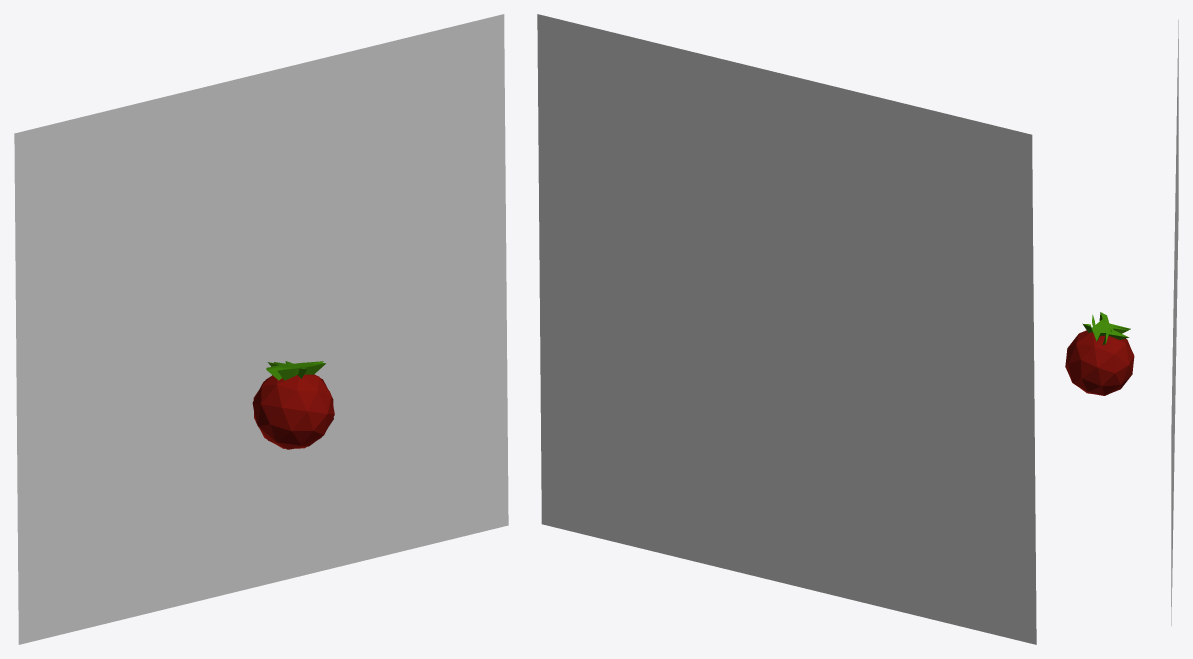
The model's file is tomato.fbx.
3 renders of one model, left to right at view 1: azimuth 30°, elevation 25°; view 2: azimuth 150°, elevation 25°; view 3: azimuth 270°, elevation 25°, orthographic. The views are drawn at different scales.
Parts seen in each view (by area): view 1: Plane, Icosphere, Cone.001; view 2: Plane; view 3: Icosphere, Plane, Cone.001.
Boxes of the visible parts, left/top/right/bottom form: Plane: left=14, top=14, right=508, bottom=644; Icosphere: left=252, top=374, right=334, bottom=449; Cone.001: left=266, top=361, right=325, bottom=380; Plane: left=537, top=14, right=1036, bottom=644; Icosphere: left=1065, top=330, right=1134, bottom=395; Plane: left=1171, top=20, right=1178, bottom=625; Cone.001: left=1082, top=312, right=1130, bottom=344.
Size of the model in its own units: 4082 by 4047 by 967.
